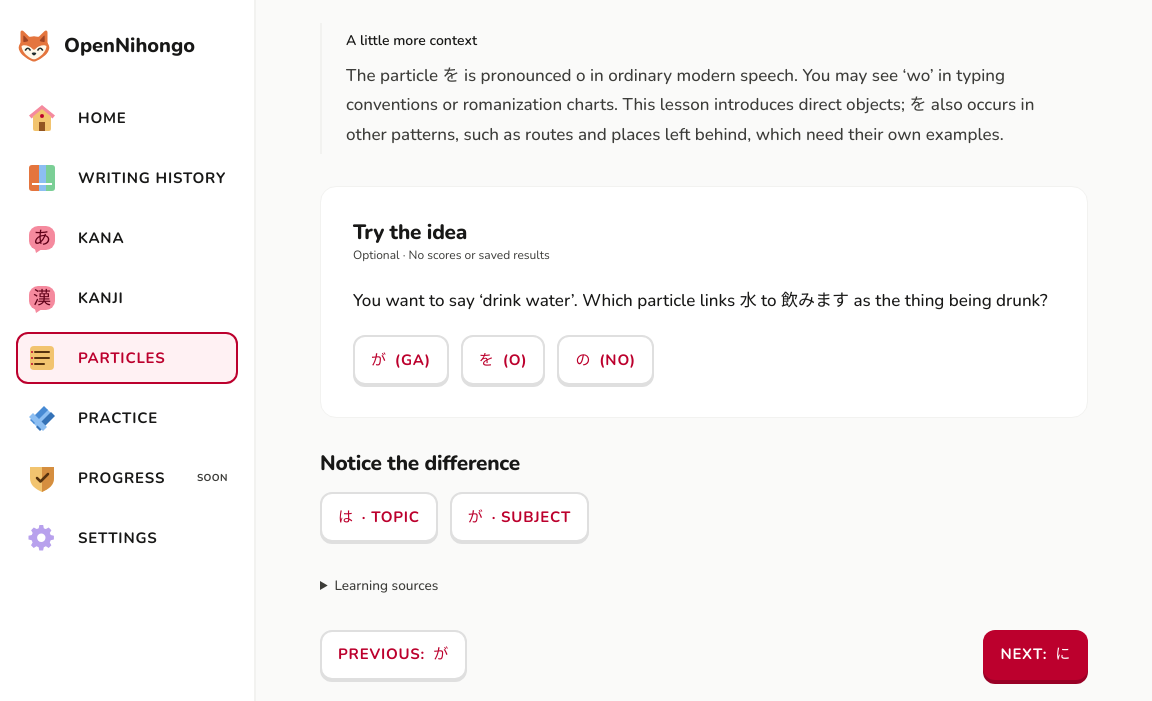
Test case: gives explained feedback for optional checks without gating the next lesson
This screenshot has width=1152, height=701.
(page scrolled)
Click the button "が (ga)" at (401, 360), box [353,336,449,386]
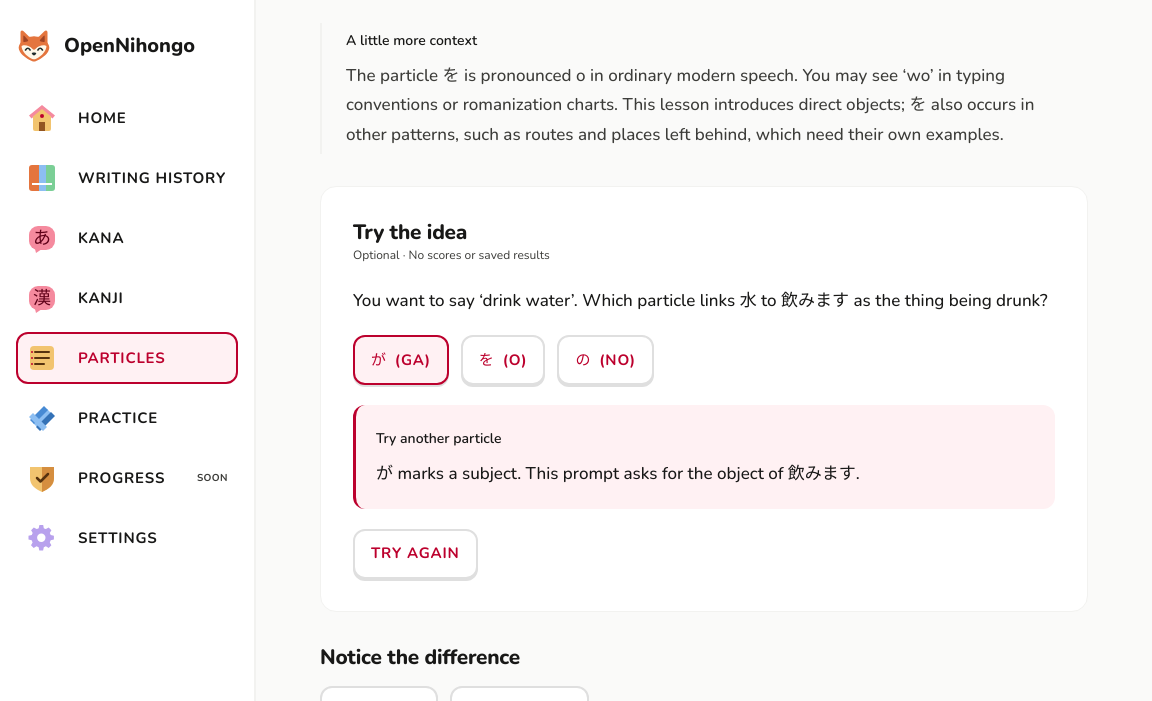
Expected: the message shows "Try another particle", [376,430,502,448]
Click the button "を (o)" at (503, 360), box [461,336,545,386]
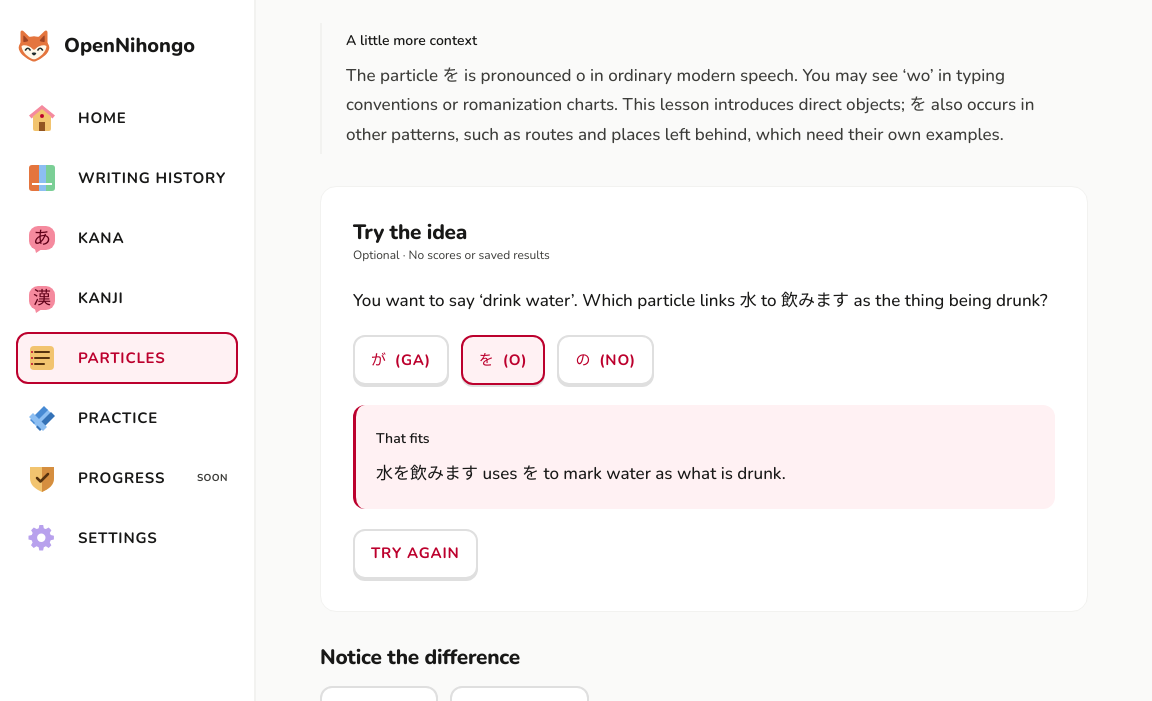
Expected: the message shows "That fits", [376,430,430,448]
Click the button "Try again" at (415, 554), box [353,529,478,579]
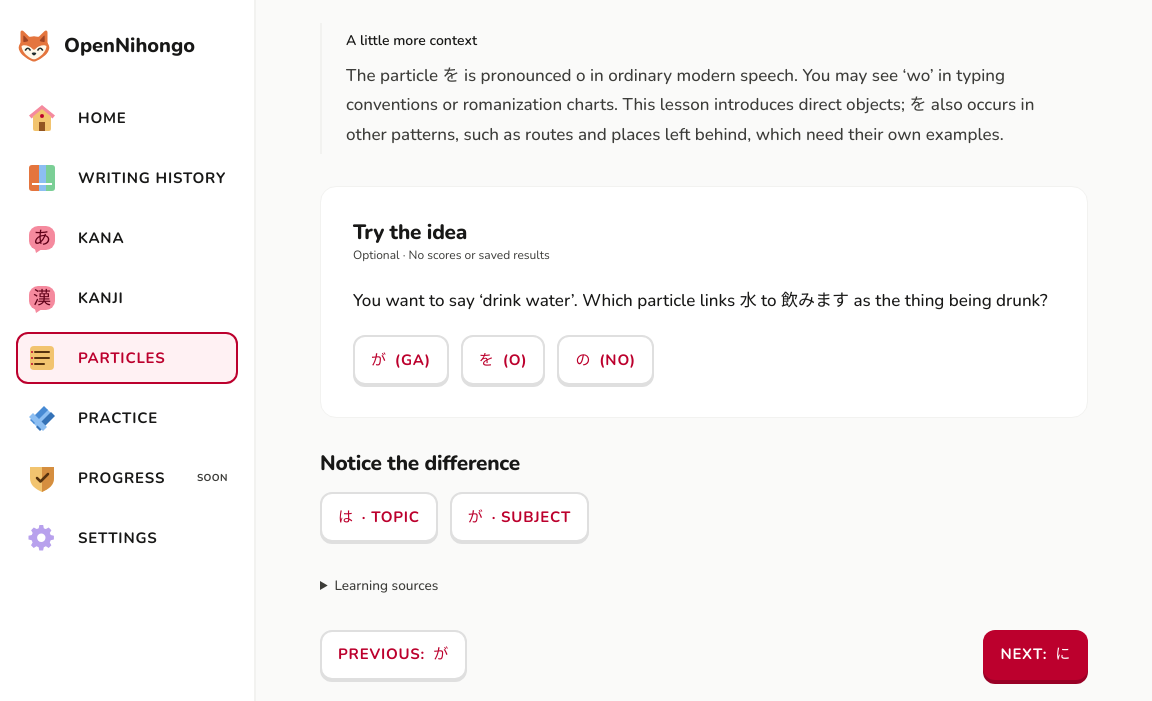
Expected: the message "That fits 水を飲みます uses を to mark water as what is drunk." is gone
Click the link "Next: に" at (1036, 655), box [983,630,1088,680]
(page scrolled)
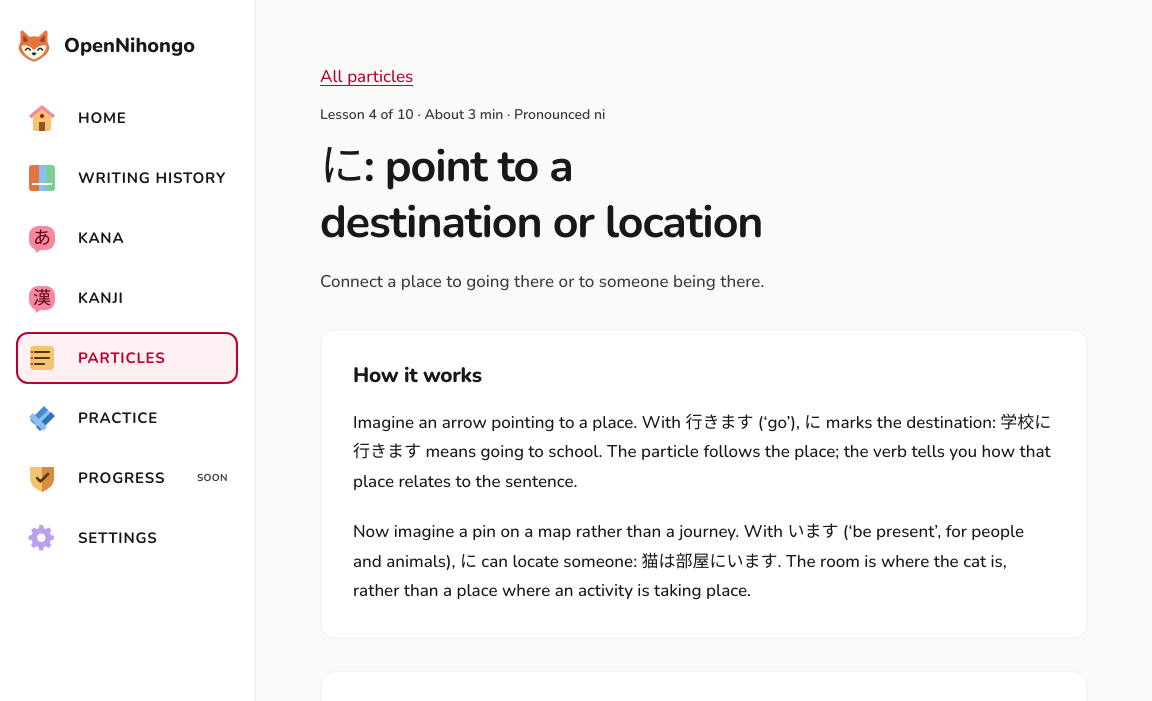
Expected: the message "That fits 水を飲みます uses を to mark water as what is drunk." is not shown
Expected: the heading "に: point to a destination or location" is shown, [320,136,762,253]
